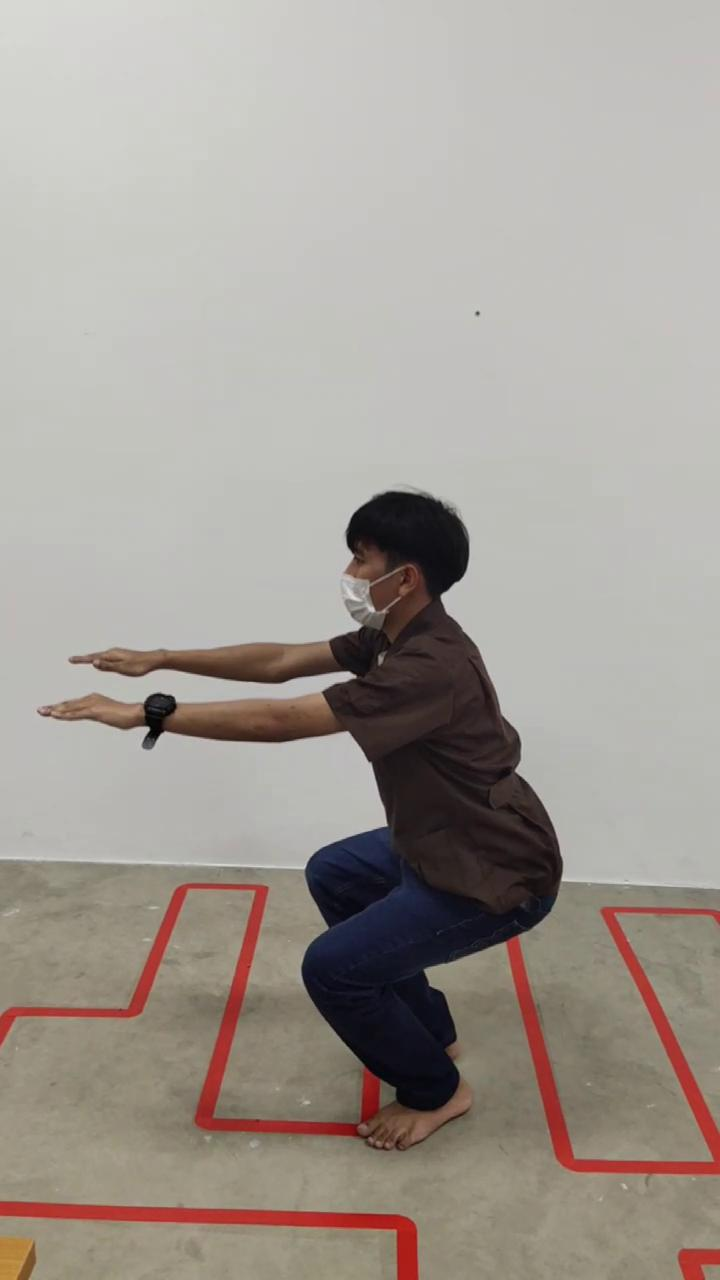squat down: (44, 491, 563, 1152)
